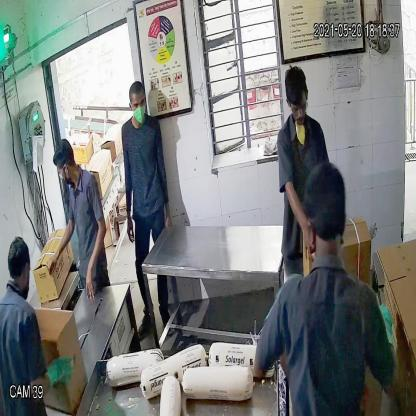goggles: (284, 97, 310, 116)
no_goggles: (129, 99, 147, 111)
